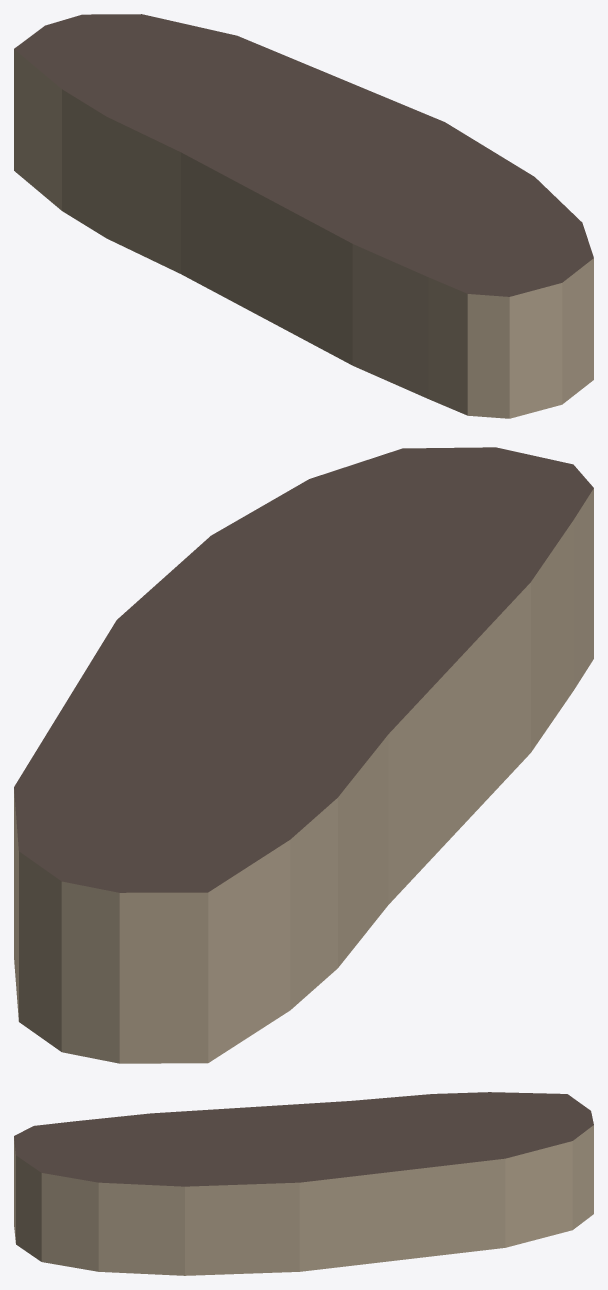
3 renders of one model, top to bottom at view 1: azimuth 30°, elevation 25°; view 2: azimuth 150°, elevation 25°; view 3: azimuth 270°, elevation 25°, orthographic. The views are drawn at different scales.
Visible parts, largest first — view 1: HP-w372180387; view 2: HP-w372180387; view 3: HP-w372180387.
Part boxes in pixels (x1=…): HP-w372180387: x1=14, y1=14, x2=593, y2=418; HP-w372180387: x1=14, y1=447, x2=593, y2=1063; HP-w372180387: x1=14, y1=1092, x2=593, y2=1275.
Bounding box in the file's own units: 20.46 × 9 × 53.03.
